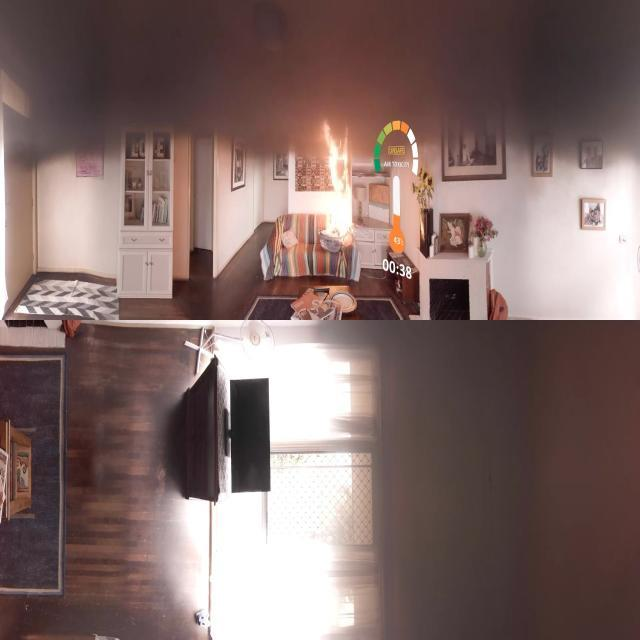Fire: (273, 84, 381, 286)
